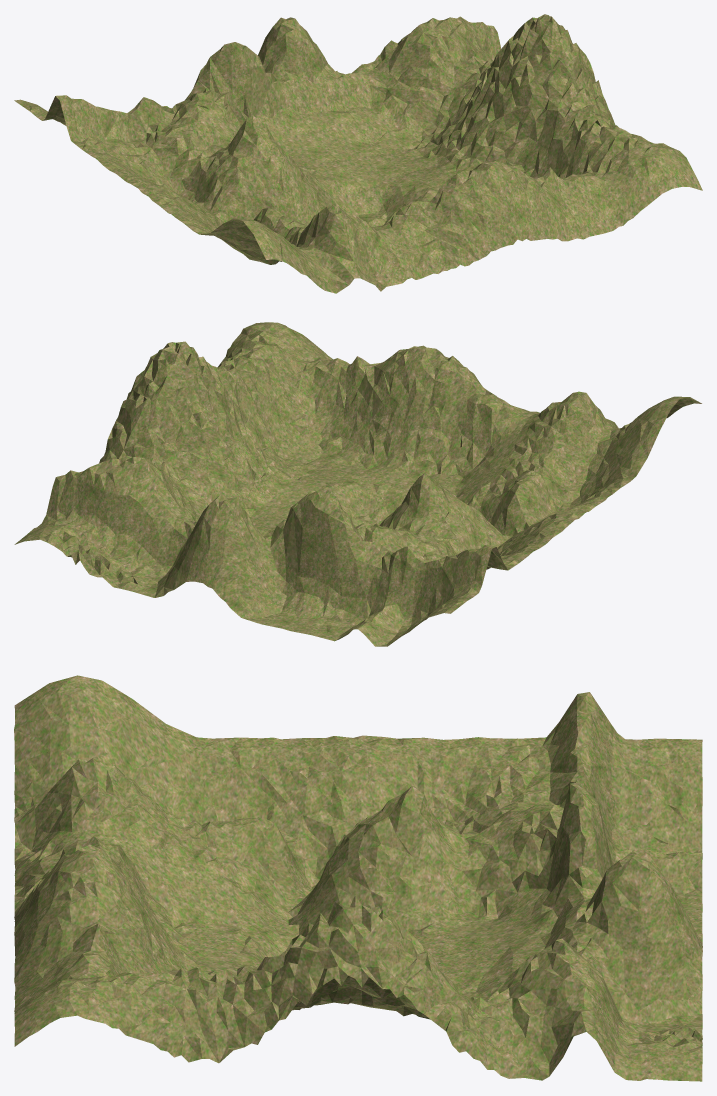
Rendered from landscape_test.obj.
The picture shows the model from 3 angles, top to bottom: view 1: azimuth 30°, elevation 25°; view 2: azimuth 150°, elevation 25°; view 3: azimuth 270°, elevation 25°; orthographic projection. The views are drawn at different scales.
Visible parts, largest first — view 1: Grid; view 2: Grid; view 3: Grid.
Boxes of the visible parts, x1,y1,x2,y2 form: Grid: (14, 14, 702, 293); Grid: (14, 322, 701, 646); Grid: (14, 675, 702, 1081).
Size of the model in its own units: 5017 by 1768 by 5009.
Materials: 1 (1 with a texture image).
